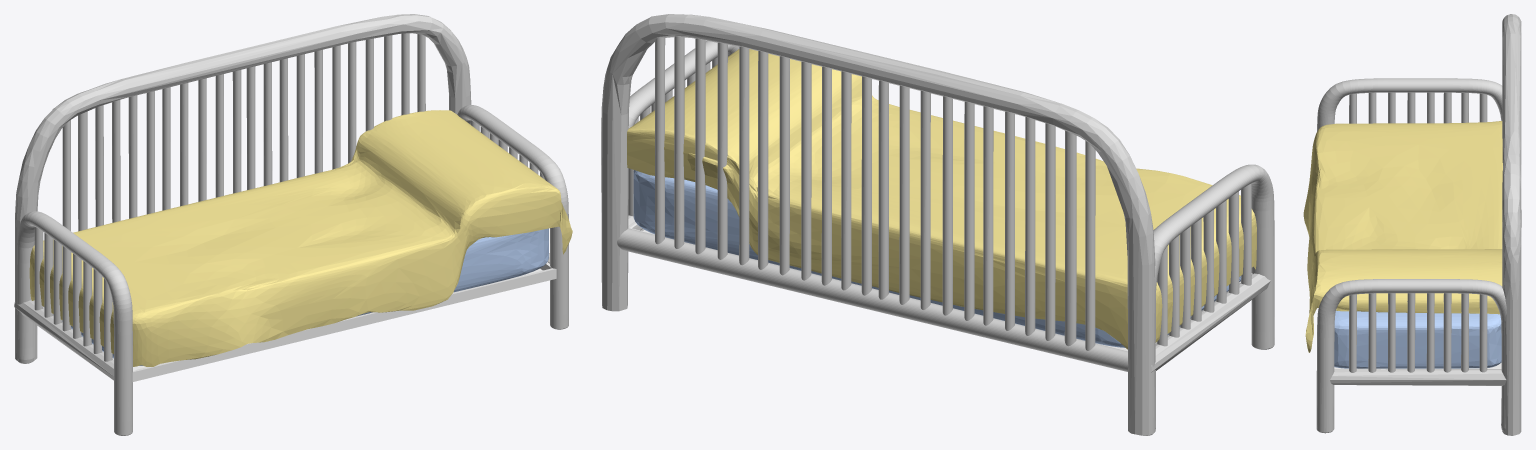
Rendered from trundleBed.obj.
The picture shows the model from 3 angles, left to right: view 1: azimuth 30°, elevation 25°; view 2: azimuth 150°, elevation 25°; view 3: azimuth 270°, elevation 25°; orthographic projection. The views are drawn at different scales.
Parts seen in each view (by area): view 1: Blanket, Extruded_Object_1, Extruded_Object_1_1, PolyMesh_1, Extruded_Object_1_2, mattress, Extruded_Object_4_2, Extruded_Object_5_8, Extruded_Object_5_5, Extruded_Object_5_12, Extruded_Object_5_14, Extruded_Object_5_13 (+25 smaller); view 2: Blanket, Extruded_Object_1, Extruded_Object_4, Extruded_Object_1_1, mattress, Extruded_Object_5_8, Extruded_Object_4_2, Extruded_Object_5_3, Extruded_Object_5, Extruded_Object_5_16, Extruded_Object_5_4, Extruded_Object_5_15 (+25 smaller); view 3: Blanket, Extruded_Object_1, mattress, Extruded_Object_1_2, Extruded_Object_1_1, Extruded_Object_4_1, Extruded_Object_5_30, Extruded_Object_5_35, Extruded_Object_5_37, Extruded_Object_5_33, Extruded_Object_5_34, Extruded_Object_5_32 (+10 smaller).
Part boxes in pixels (x1,y1,x2,y2): Blanket: [29, 110, 572, 366]; Extruded_Object_1: [15, 14, 471, 360]; Extruded_Object_1_1: [17, 211, 132, 435]; PolyMesh_1: [43, 262, 556, 381]; Extruded_Object_1_2: [457, 105, 568, 329]; mattress: [53, 228, 548, 365]; Extruded_Object_4_2: [14, 300, 114, 380]; Extruded_Object_5_8: [78, 111, 87, 231]; Extruded_Object_5_5: [128, 95, 137, 218]; Extruded_Object_5_12: [246, 66, 255, 189]; Extruded_Object_5_14: [279, 58, 288, 182]; Extruded_Object_5_13: [263, 62, 272, 185]; Blanket: [627, 49, 1256, 349]; Extruded_Object_1: [601, 14, 1155, 435]; Extruded_Object_4: [617, 228, 1128, 371]; Extruded_Object_1_1: [1143, 164, 1274, 435]; mattress: [633, 170, 1241, 347]; Extruded_Object_5_8: [1064, 130, 1076, 346]; Extruded_Object_4_2: [1151, 273, 1270, 372]; Extruded_Object_5_3: [964, 101, 974, 320]; Extruded_Object_5: [899, 85, 909, 304]; Extruded_Object_5_16: [779, 56, 789, 275]; Extruded_Object_5_4: [983, 106, 993, 325]; Extruded_Object_5_15: [801, 61, 811, 280]; Blanket: [1303, 121, 1502, 352]; Extruded_Object_1: [1502, 14, 1521, 435]; mattress: [1334, 310, 1501, 368]; Extruded_Object_1_2: [1316, 279, 1506, 433]; Extruded_Object_1_1: [1317, 78, 1502, 131]; Extruded_Object_4_1: [1330, 369, 1506, 385]; Extruded_Object_5_30: [1368, 293, 1376, 372]; Extruded_Object_5_35: [1443, 293, 1451, 372]; Extruded_Object_5_37: [1479, 294, 1487, 372]; Extruded_Object_5_33: [1407, 293, 1415, 372]; Extruded_Object_5_34: [1426, 293, 1434, 372]; Extruded_Object_5_32: [1388, 293, 1395, 372].
Size of the model in its own units: 4.1 by 2.22 by 1.8.
